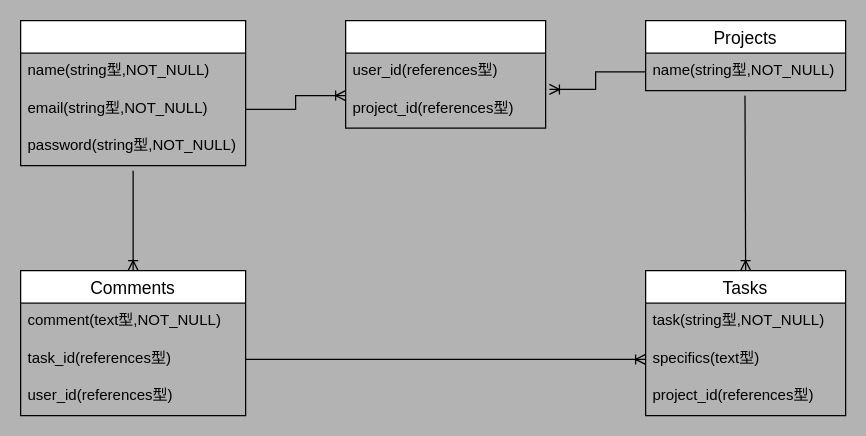
The diagram is 866 pixels wide and 436 high, and some of its shapes have lost their labels. The box of each missing label's shape, as (x1, y1, x2, y2) in pixels:
UserProjects: (344, 19, 546, 128)
Users: (19, 19, 246, 166)
